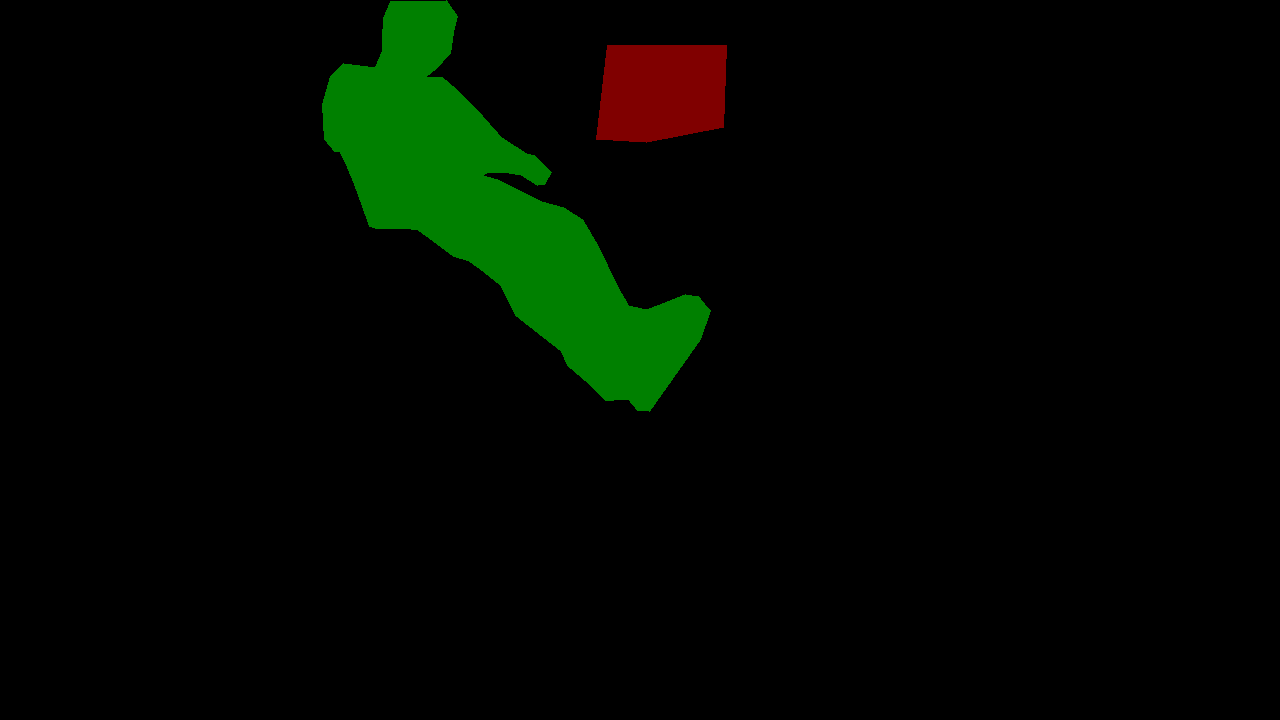person: (322, 0, 710, 411)
tvmonitor: (596, 45, 726, 142)
